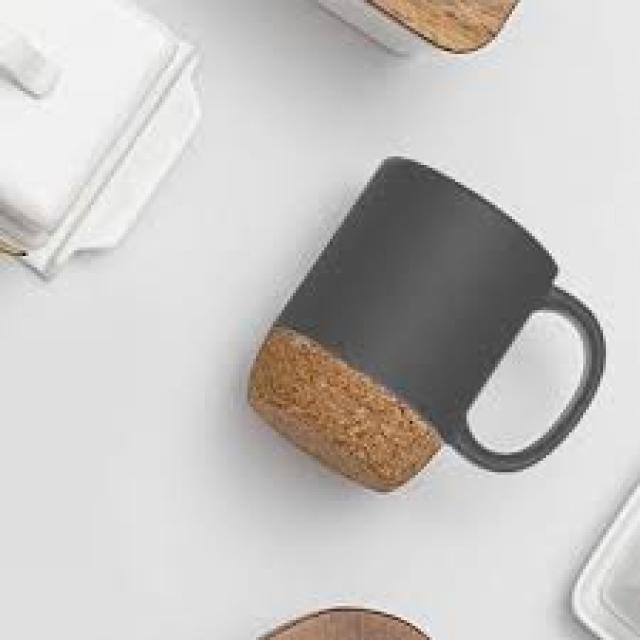taza: (230, 139, 614, 503)
